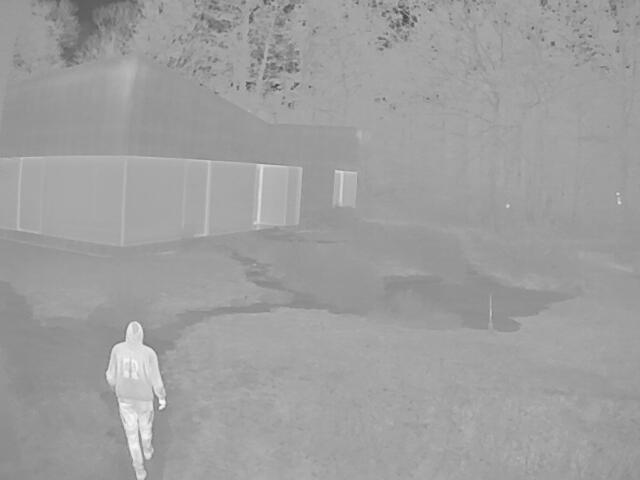person: (102, 320, 167, 479)
